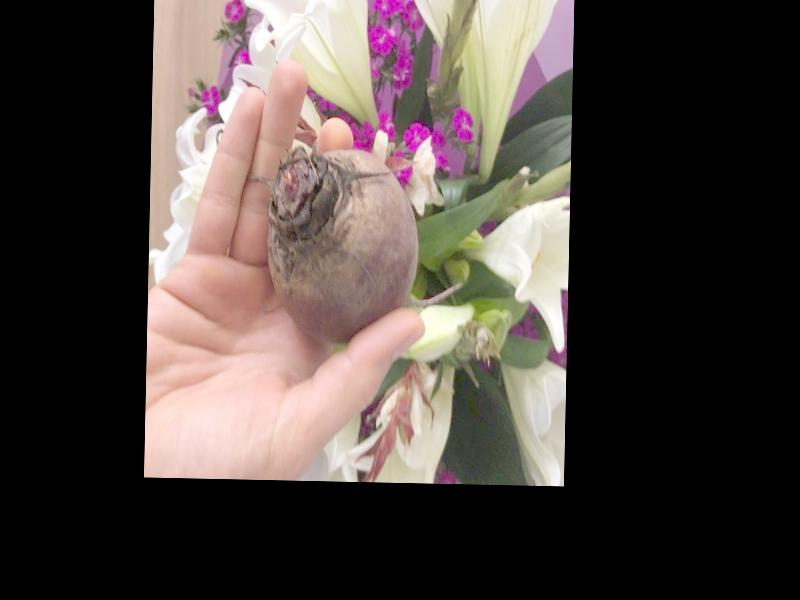Beet: (264, 147, 467, 346)
